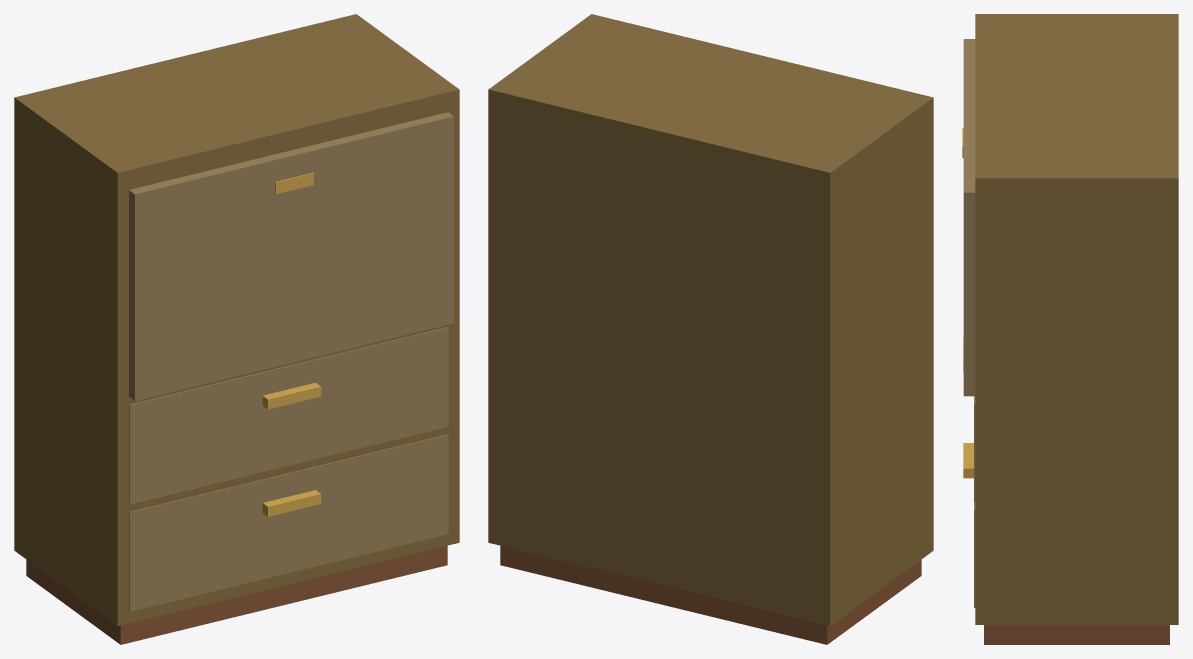
Rendered from secretary_desk.glb.
The picture shows the model from 3 angles, left to right: view 1: azimuth 30°, elevation 25°; view 2: azimuth 150°, elevation 25°; view 3: azimuth 270°, elevation 25°; orthographic projection.
Visible parts, largest first — view 1: secretary_desk_Body, secretary_desk_Flap; view 2: secretary_desk_Body; view 3: secretary_desk_Body, secretary_desk_Flap.
Part boxes in pixels (box(x1,y1,x2,y2)): secretary_desk_Body: box(14, 14, 459, 644); secretary_desk_Flap: box(129, 112, 453, 400); secretary_desk_Body: box(488, 14, 933, 644); secretary_desk_Body: box(963, 14, 1178, 644); secretary_desk_Flap: box(962, 39, 975, 396).
Bounding box in the file's own units: 0.9 × 1.2 × 0.5.
